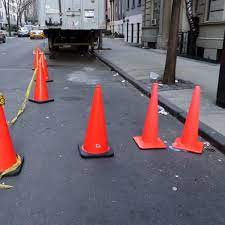cone: (77, 82, 116, 157), (131, 83, 169, 148), (176, 85, 204, 156), (1, 96, 24, 178), (28, 58, 56, 105)
